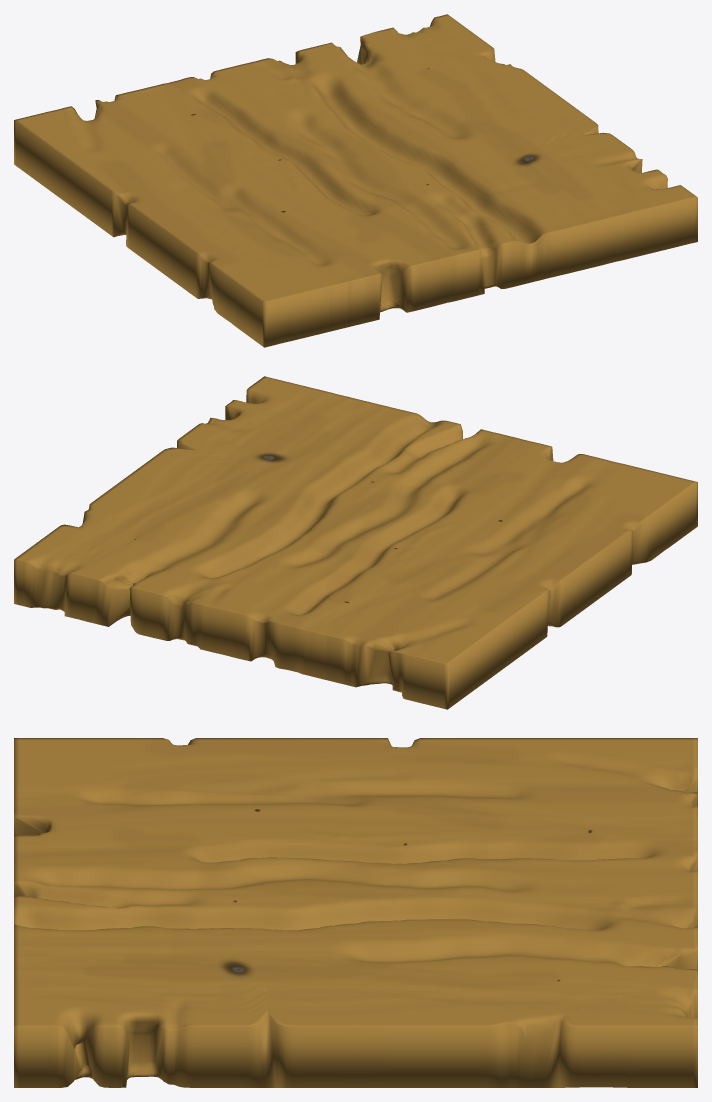
The model's file is driftwoodpiece3.fbx.
3 views of the same model, one above another, from view 1: azimuth 30°, elevation 25°; view 2: azimuth 150°, elevation 25°; view 3: azimuth 270°, elevation 25° (orthographic). The views are drawn at different scales.
Visible parts, largest first — view 1: Driftwood1; view 2: Driftwood1; view 3: Driftwood1.
Part boxes in pixels (x1,y1,x2,y2): Driftwood1: (14,14,697,347); Driftwood1: (14,376,697,709); Driftwood1: (14,738,697,1087).
Size of the model in its own units: 200 by 20 by 200.
1 material, 1 textured.
